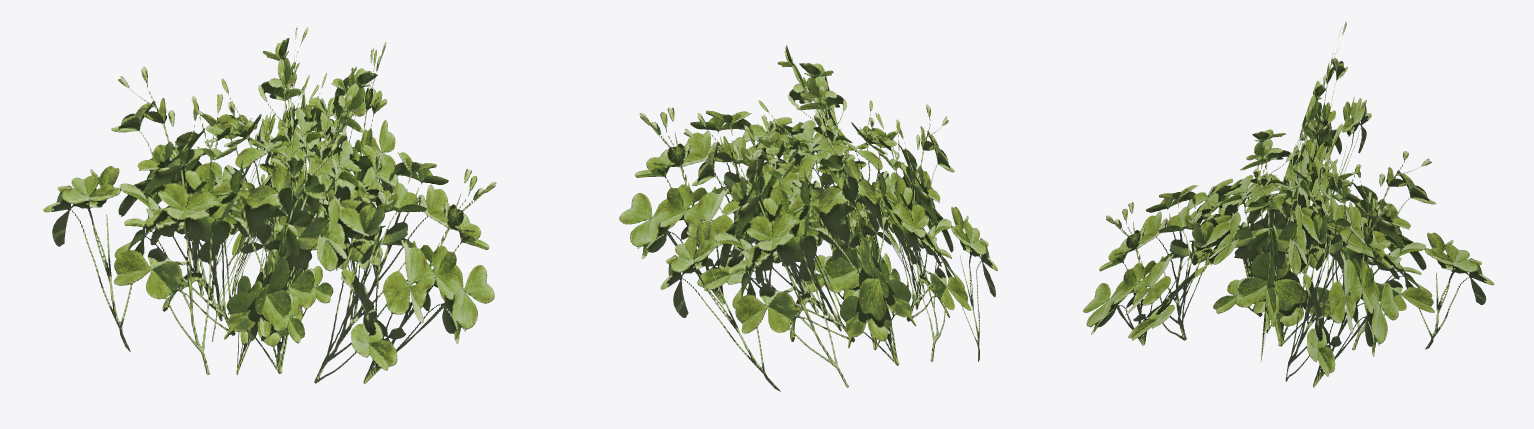
The model's file is SM_FOL_Grass_Clump_04_A.fbx.
3 views of the same model, side by side, from view 1: azimuth 30°, elevation 25°; view 2: azimuth 150°, elevation 25°; view 3: azimuth 270°, elevation 25° (orthographic). The views are drawn at different scales.
Visible parts, largest first — view 1: SM_FOL_Grass_Clump_04_A; view 2: SM_FOL_Grass_Clump_04_A; view 3: SM_FOL_Grass_Clump_04_A.
Part boxes in pixels (x1,y1,x2,y2): SM_FOL_Grass_Clump_04_A: (43,26,496,383); SM_FOL_Grass_Clump_04_A: (619,45,997,391); SM_FOL_Grass_Clump_04_A: (1083,21,1494,387).
Size of the model in its own units: 56.46 by 40.01 by 56.34.
Materials: 1 (1 with a texture image).
